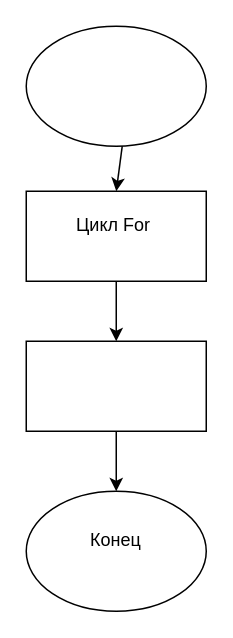
Some shapes in this 233 by 638 pixel diagram are drawn without their labels. The centre of each missing label's shape, as x and y in pixels:
Вывод: point (115, 385)
Начало: point (115, 85)
